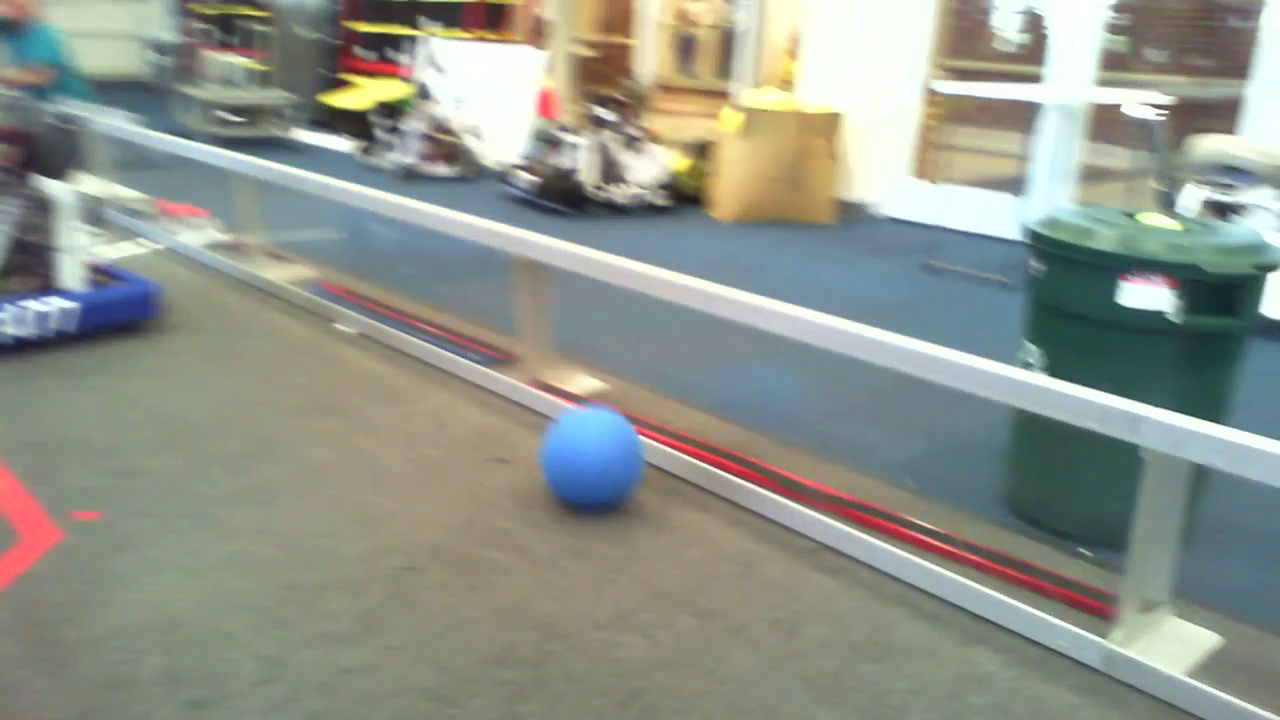blue_cargo: (541, 404, 636, 510)
blue_robot: (1, 141, 171, 347)
